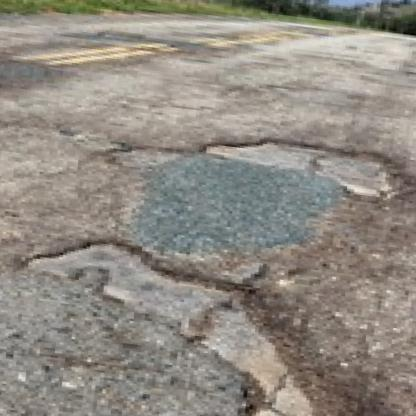pothole: (1, 227, 396, 416), (198, 127, 414, 207), (104, 138, 188, 175)
